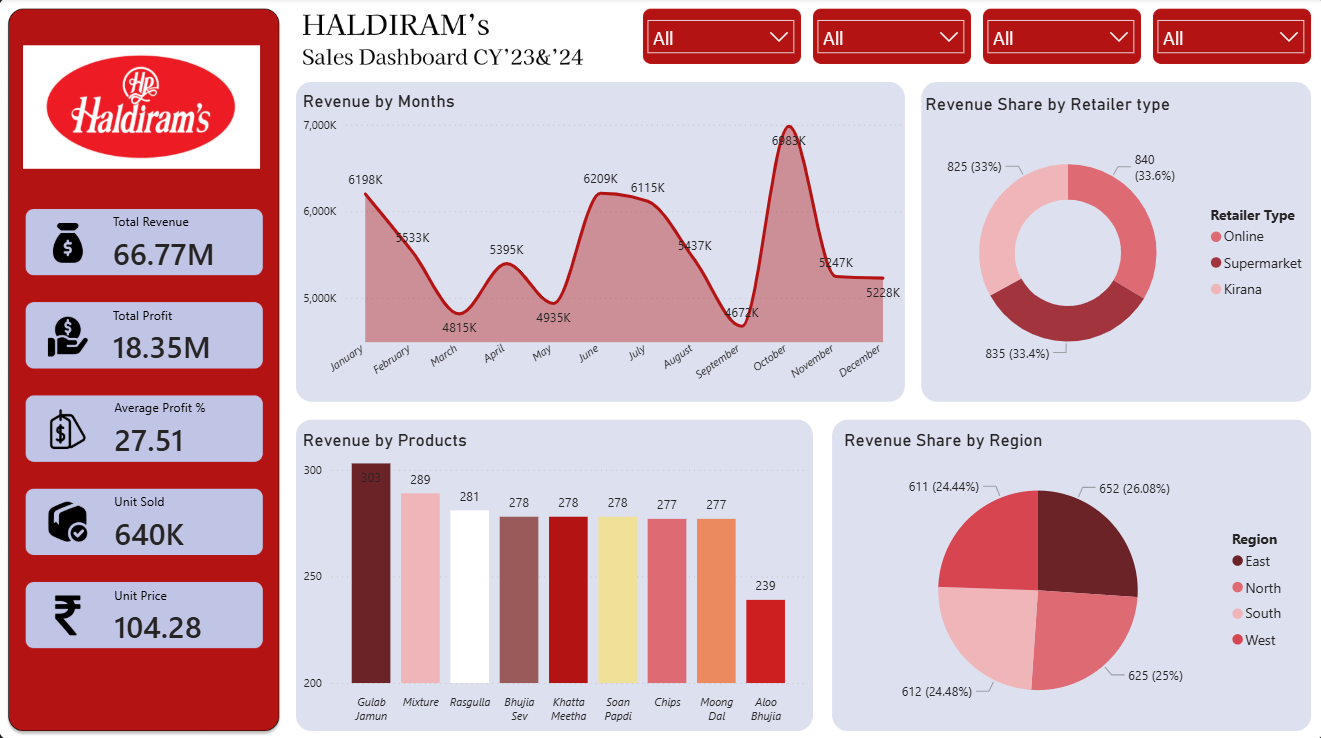

Layout of this report page (visuals, bound fields, positions):
{"tool":"powerbi","page":{"name":"Page 1","canvas":[1280,720],"ordinal":0},"visuals":[{"type":"image","box":[24.7,6.9,229.2,196.2],"z":0},{"type":"areaChart","title":"Revenue by Months","fields":{"Y":["_Measures_.Total Revenue"],"Category":["FMCG Sales Data.Date.Variation.Date Hierarchy.Month"]},"box":[294.4,89.3,577.9,287.1],"z":1},{"type":"cardVisual","fields":{"Data":["_Measures_.Total Revenue"]},"box":[98.9,196.6,208.7,78.4],"z":1,"group":"g1"},{"type":"cardVisual","fields":{"Data":["_Measures_.Total Profit"]},"box":[98.9,287.1,208.7,78.4],"z":2,"group":"g1"},{"type":"cardVisual","fields":{"Data":["_Measures_.Averrage Profit %"]},"box":[100.1,376.4,208.7,78.4],"z":3,"group":"g1"},{"type":"cardVisual","fields":{"Data":["_Measures_.Unit Sold"]},"box":[100.1,466.8,208.7,78.4],"z":4,"group":"g1"},{"type":"cardVisual","fields":{"Data":["_Measures_.Unit Price"]},"box":[100.1,557.3,208.7,78.4],"z":5,"group":"g1"},{"type":"group","id":"g1","title":"Group 1","box":[98.9,196.6,209.9,439.1],"z":6},{"type":"image","box":[36.2,576.7,62.7,38.6],"z":7},{"type":"image","box":[36.2,486.2,62.7,38.6],"z":8},{"type":"image","box":[36.2,217.2,62.7,38.6],"z":9},{"type":"image","box":[36.2,396.9,62.7,38.6],"z":10},{"type":"image","box":[36.2,307.6,62.7,38.6],"z":11},{"type":"slicer","fields":{"Values":["FMCG Sales Data.Date.Variation.Date Hierarchy.Year"]},"box":[616.5,10.9,161.7,50.7],"z":12},{"type":"slicer","fields":{"Values":["FMCG Sales Data.Date.Variation.Date Hierarchy.Quarter"]},"box":[780.6,10.9,161.7,50.7],"z":13},{"type":"slicer","fields":{"Values":["FMCG Sales Data.Region"]},"box":[944.6,10.9,161.7,50.7],"z":14},{"type":"slicer","fields":{"Values":["FMCG Sales Data.Retailer Type"]},"box":[1108.7,10.9,161.7,50.7],"z":15},{"type":"donutChart","title":"Revenue Share by Retailer type","fields":{"Category":["FMCG Sales Data.Retailer Type"],"Y":["CountNonNull(FMCG Sales Data.Index)"]},"box":[895.2,91.7,372.8,284.7],"z":16},{"type":"clusteredColumnChart","title":"Revenue by Products","fields":{"Y":["CountNonNull(FMCG Sales Data.Index)"],"Category":["FMCG Sales Data.Product"]},"box":[294.4,416.2,485,287.1],"z":17},{"type":"pieChart","title":"Revenue Share by Region","fields":{"Y":["CountNonNull(FMCG Sales Data.Index)"],"Category":["FMCG Sales Data.Region"]},"box":[816.8,416.2,437.9,287.1],"z":18}]}

Visuals, with their boxes in screenshot pixels (x1, y1, x2, y2), scaled from the page's 1280x720 canvas onto the 1321x738 screenshot:
image: [left=25, top=7, right=262, bottom=208]
"Revenue by Months" areaChart: [left=304, top=92, right=900, bottom=386]
cardVisual - _Measures_.Total Revenue: [left=102, top=202, right=317, bottom=282]
cardVisual - _Measures_.Total Profit: [left=102, top=294, right=317, bottom=375]
cardVisual - _Measures_.Averrage Profit %: [left=103, top=386, right=319, bottom=466]
cardVisual - _Measures_.Unit Sold: [left=103, top=478, right=319, bottom=559]
cardVisual - _Measures_.Unit Price: [left=103, top=571, right=319, bottom=652]
"Group 1" group: [left=102, top=202, right=319, bottom=652]
image: [left=37, top=591, right=102, bottom=631]
image: [left=37, top=498, right=102, bottom=538]
image: [left=37, top=223, right=102, bottom=262]
image: [left=37, top=407, right=102, bottom=446]
image: [left=37, top=315, right=102, bottom=355]
slicer - FMCG Sales Data.Date.Variation.Date Hierarchy.Year: [left=636, top=11, right=803, bottom=63]
slicer - FMCG Sales Data.Date.Variation.Date Hierarchy.Quarter: [left=806, top=11, right=972, bottom=63]
slicer - FMCG Sales Data.Region: [left=975, top=11, right=1142, bottom=63]
slicer - FMCG Sales Data.Retailer Type: [left=1144, top=11, right=1311, bottom=63]
"Revenue Share by Retailer type" donutChart: [left=924, top=94, right=1309, bottom=386]
"Revenue by Products" clusteredColumnChart: [left=304, top=427, right=804, bottom=721]
"Revenue Share by Region" pieChart: [left=843, top=427, right=1295, bottom=721]
